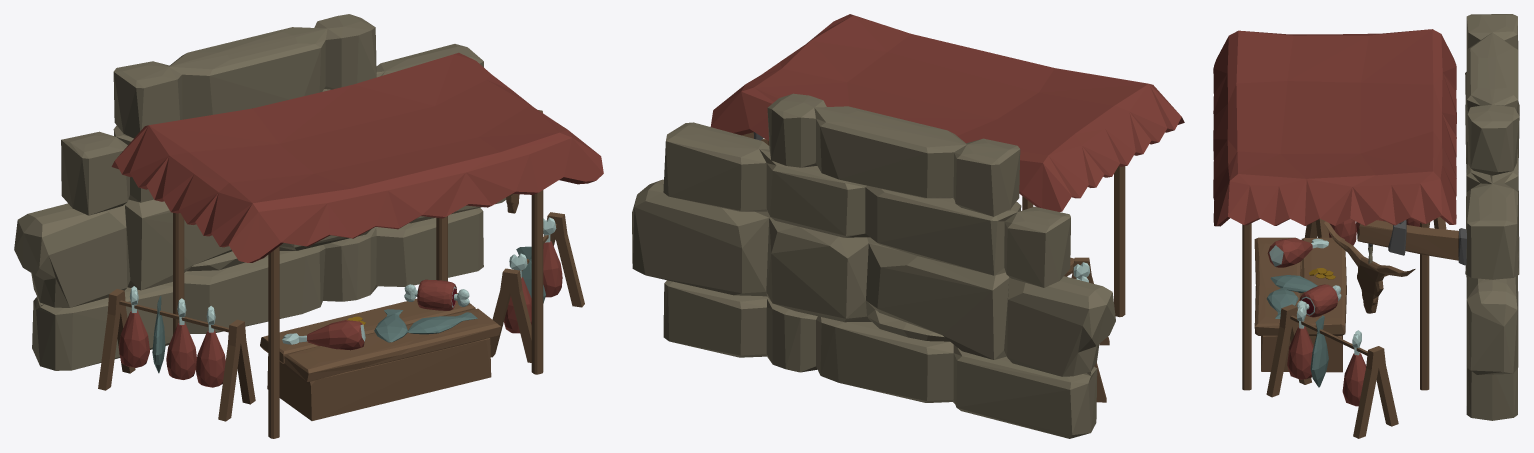
The picture shows the model from 3 angles, left to right: view 1: azimuth 30°, elevation 25°; view 2: azimuth 150°, elevation 25°; view 3: azimuth 270°, elevation 25°; orthographic projection. The views are drawn at different scales.
Visible parts, largest first — view 1: botcher market; view 2: botcher market; view 3: botcher market.
Boxes of the visible parts, x1=… form: botcher market: x1=14, y1=14, x2=603, y2=438; botcher market: x1=632, y1=14, x2=1184, y2=438; botcher market: x1=1213, y1=14, x2=1519, y2=438.
Bounding box in the file's own units: 4.19 × 2.2 × 2.44.
